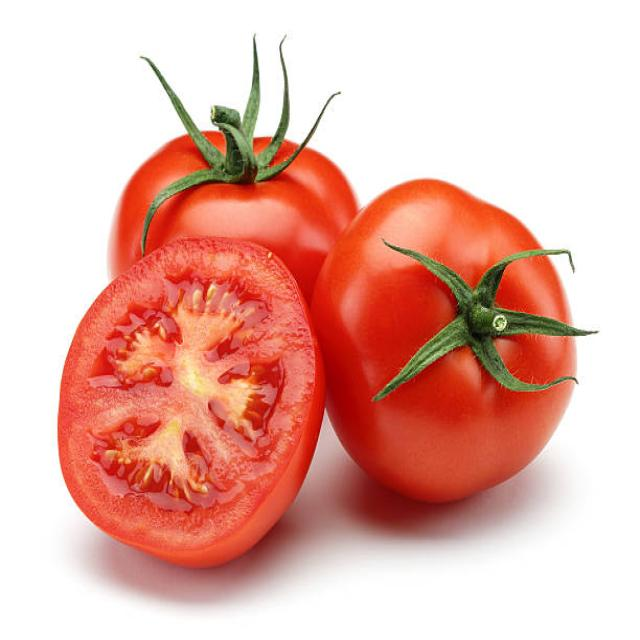Tomato: (43, 246, 322, 572)
